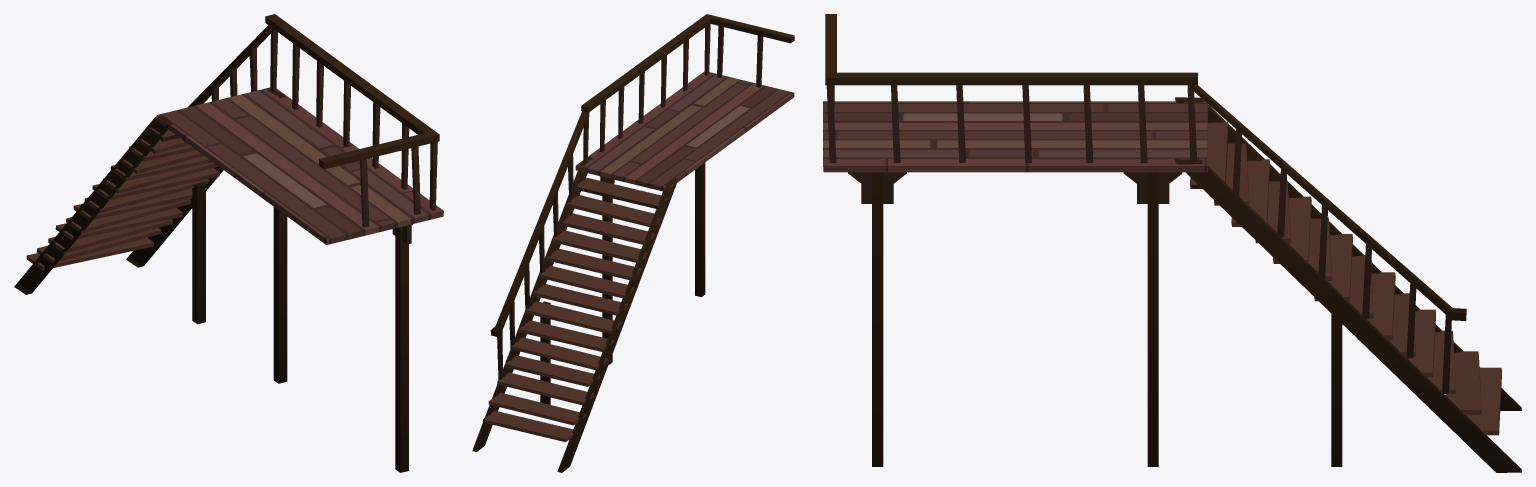
File: Deck Stairs.glb
3 views of the same model, side by side, from view 1: azimuth 30°, elevation 25°; view 2: azimuth 150°, elevation 25°; view 3: azimuth 270°, elevation 25° (orthographic). The views are drawn at different scales.
Visible parts, largest first — view 1: Deck Stairs; view 2: Deck Stairs; view 3: Deck Stairs.
Boxes of the visible parts, x1=… form: Deck Stairs: x1=14, y1=14, x2=443, y2=472; Deck Stairs: x1=472, y1=14, x2=794, y2=472; Deck Stairs: x1=823, y1=14, x2=1521, y2=472.
Size of what is drawn, in the model's own units: 1.73 by 4.74 by 7.61.
Materials: 2 (2 with a texture image).
